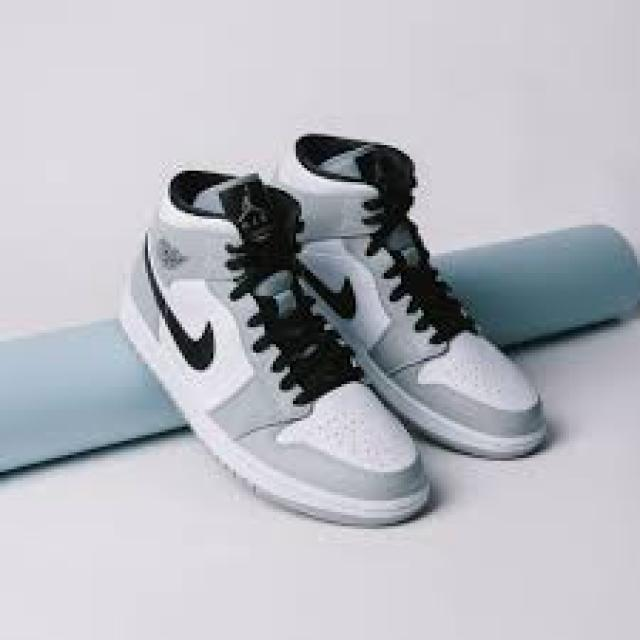shoes: (117, 132, 552, 532), (123, 164, 432, 530)
